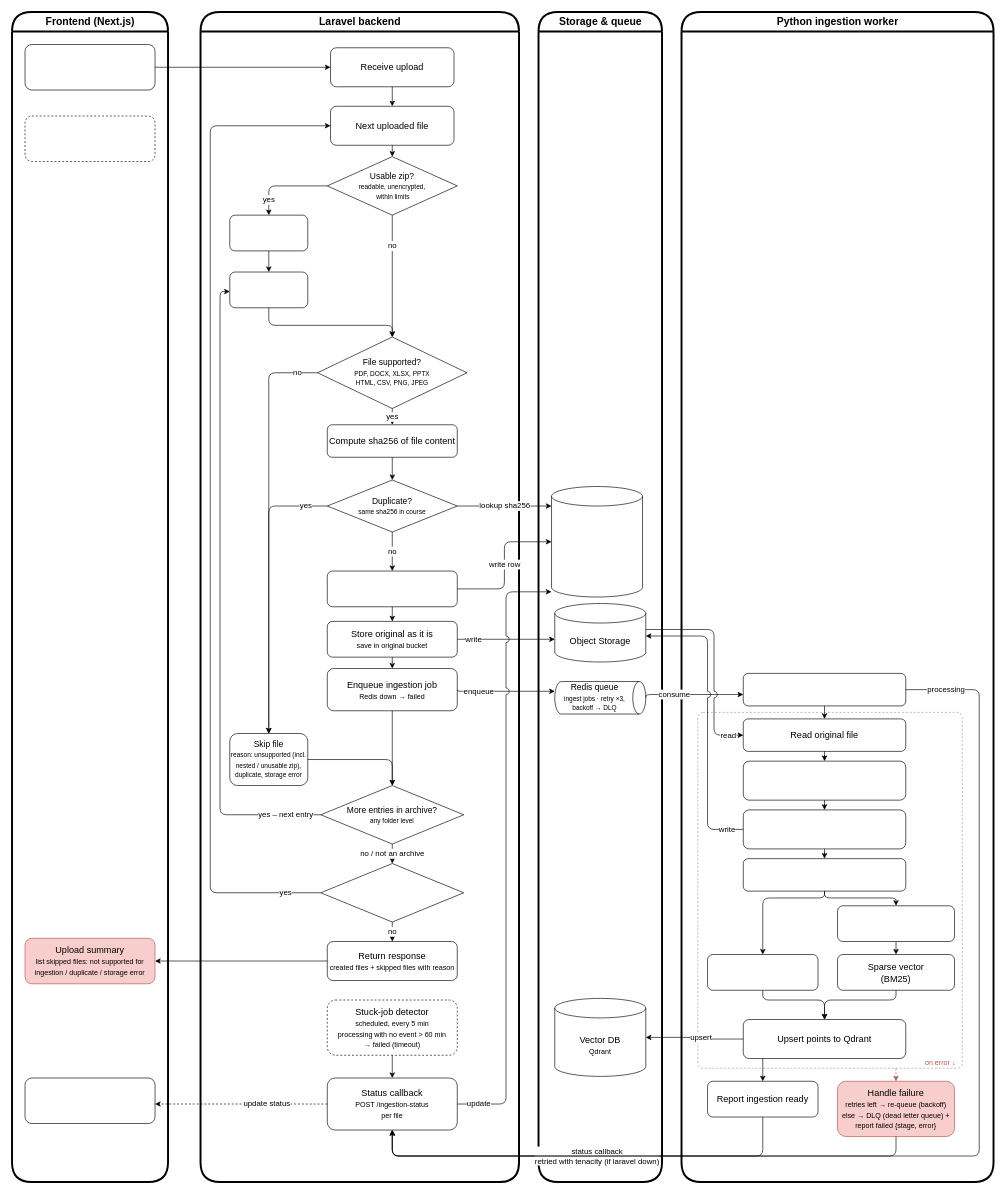
This 1006x1194 diagram has some shape labels left out. Here are the shapes that lost their labels. From the top down, the centre of each, then its label:
At (89,67): "Upload UI - drag and drop files / zip archives check size".
At (89,138): "Drive imports (future improvement)".
At (268,232): "Unpack archive reject ../ & absolute paths".
At (268,289): "Next file entry all subfolders, dirs skipped".
At (597,541): "Relational DB".
At (392,588): "Create File row status = pending".
At (824,689): "Consume ingestion job report processing".
At (824,780): "Parse with Docling".
At (824,829): "Save DoclingDocument save in processed bucket".
At (392,892): "More uploaded files?".
At (824,874): "Split into chunks (Adaptive chunking)".
At (896,923): "Normalize for BM25 strip diacritics, lowercase, stem".
At (762,972): "Dense embeddings (Qwen3-Embedding-4B)".
At (89,1100): "Ingestion status view pending / processing / ready / failed".
